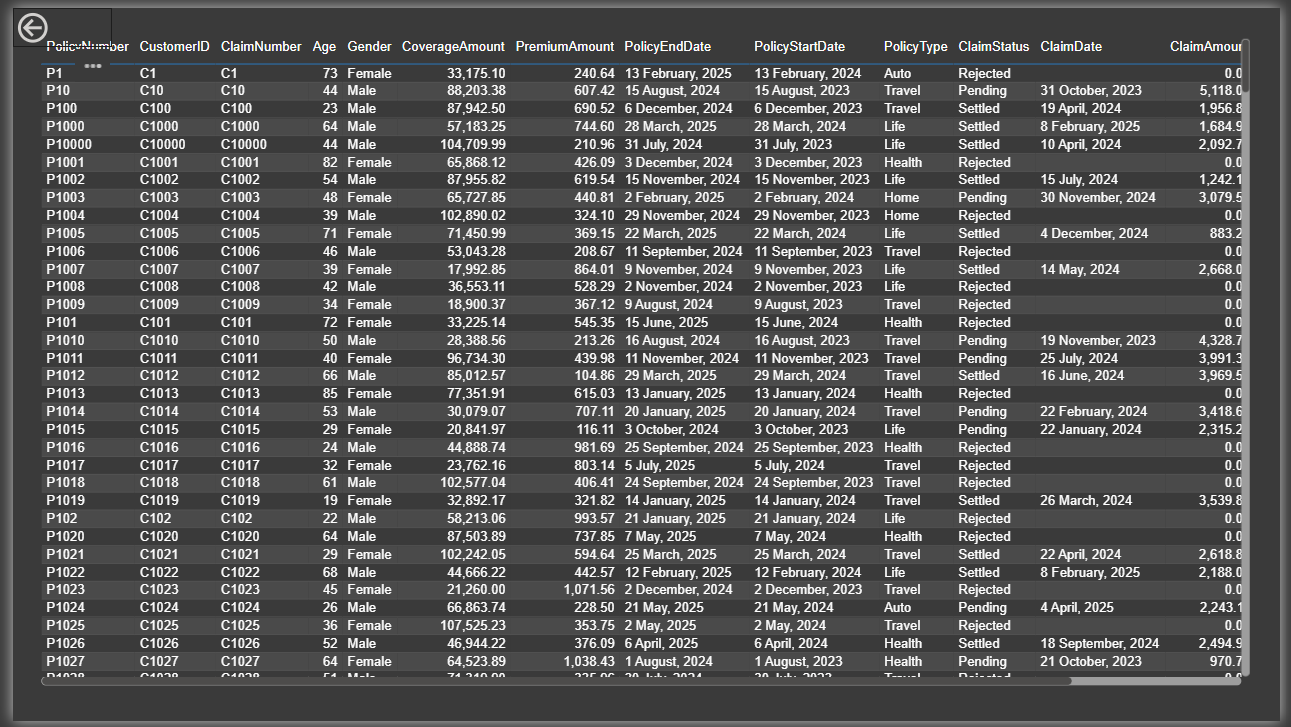

The page's visual inventory and layout, read from the dashboard file:
{"tool":"powerbi","page":{"name":"Page 2","canvas":[1280,720],"ordinal":1},"visuals":[{"type":"tableEx","fields":{"Values":["InsuranceData.PolicyNumber","InsuranceData.CustomerID","InsuranceData.ClaimNumber","InsuranceData.Age","InsuranceData.Gender","InsuranceData.CoverageAmount","InsuranceData.PremiumAmount","InsuranceData.PolicyEndDate","InsuranceData.PolicyStartDate","InsuranceData.PolicyType","InsuranceData.ClaimStatus","InsuranceData.ClaimDate"]},"box":[23.3,25,1231.7,663.3],"z":0},{"type":"actionButton","box":[0,0,100,40],"z":1000}]}

Visuals, with their boxes on the page's 1280x720 design canvas (x1, y1, x2, y2). These are canvas units, not pixel positions in the 1291x727 screenshot, which may show the page scaled, cropped or inside an application window:
tableEx - InsuranceData.PolicyNumber x InsuranceData.CustomerID: <box>23,25,1255,688</box>
actionButton: <box>0,0,100,40</box>
